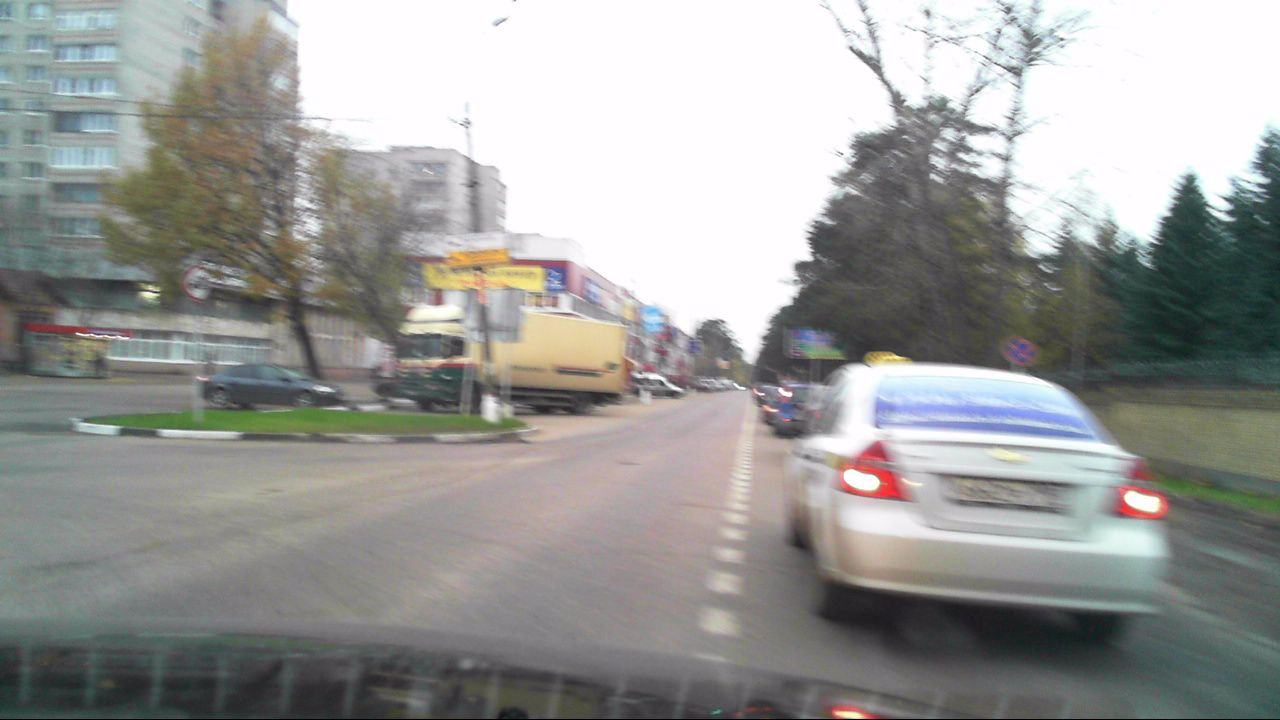No Parking: (1005, 339, 1035, 365)
